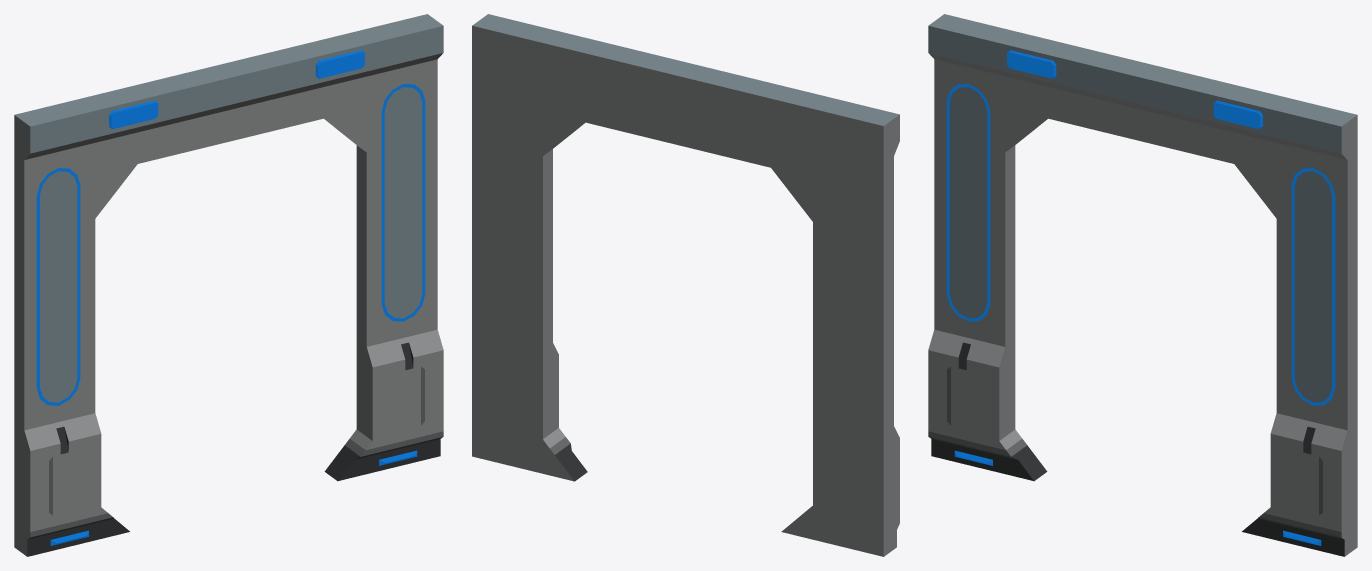
The model's file is Wall_type_B_054.glb.
The picture shows the model from 3 angles, left to right: view 1: azimuth 30°, elevation 25°; view 2: azimuth 150°, elevation 25°; view 3: azimuth 330°, elevation 25°; orthographic projection.
Parts seen in each view (by area): view 1: Wall_type_B_054; view 2: Wall_type_B_054; view 3: Wall_type_B_054.
Part boxes in pixels (bbox=[...]): Wall_type_B_054: bbox=[14, 14, 443, 556]; Wall_type_B_054: bbox=[472, 14, 899, 556]; Wall_type_B_054: bbox=[928, 14, 1357, 556].
Size of the model in its own units: 4 by 4 by 0.2898.
Materials: 2 (2 with a texture image).
